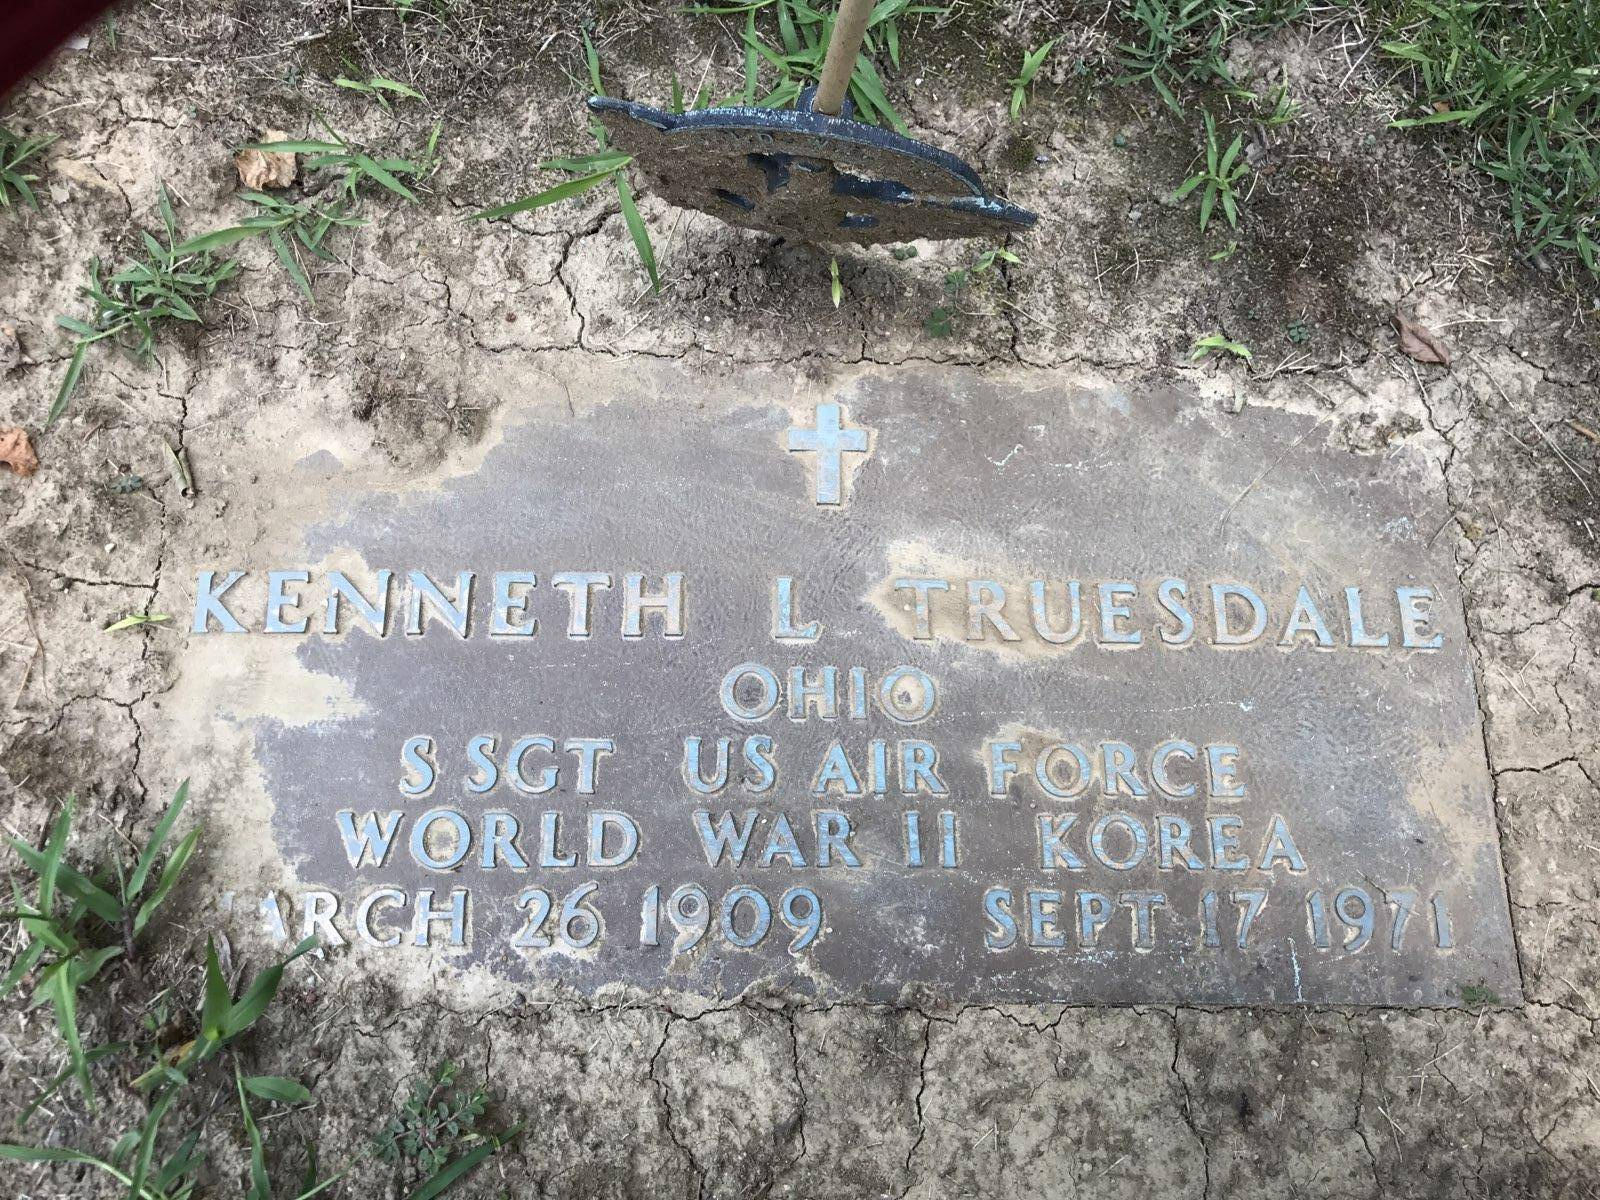flat: (120, 303, 1546, 1024)
